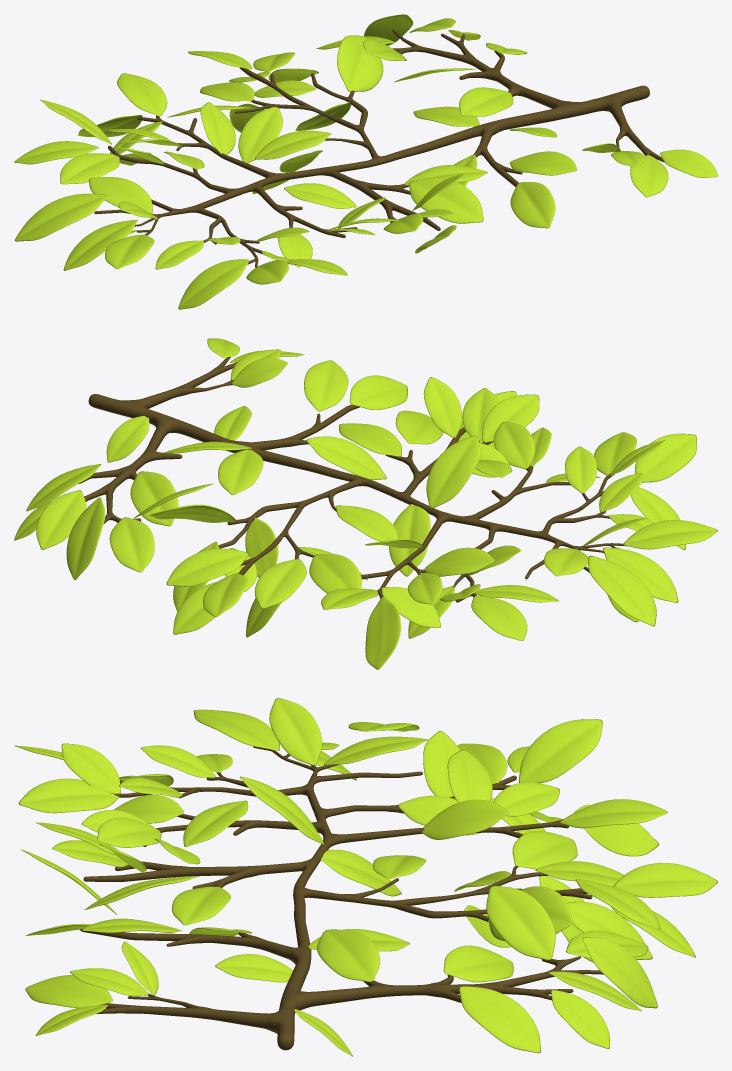
File: Leaves_01_High.fbx
3 views of the same model, one above another, from view 1: azimuth 30°, elevation 25°; view 2: azimuth 150°, elevation 25°; view 3: azimuth 270°, elevation 25° (orthographic). The views are drawn at different scales.
Visible parts, largest first — view 1: Leaves_High; view 2: Leaves_High; view 3: Leaves_High.
Boxes of the visible parts, x1=… form: Leaves_High: x1=14, y1=14, x2=717, y2=309; Leaves_High: x1=14, y1=338, x2=717, y2=669; Leaves_High: x1=14, y1=698, x2=717, y2=1056.
Size of the model in its own units: 1143 by 203 by 931.
